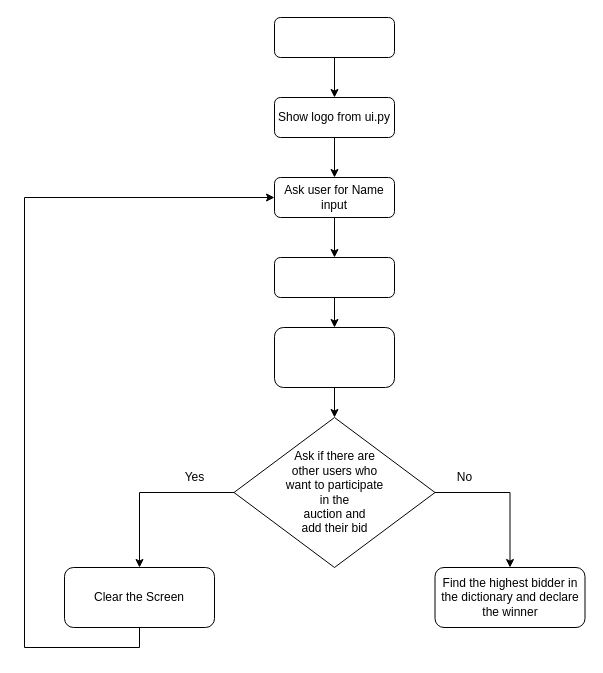
The diagram is 603 pixels wide and 673 high, and some of its shapes have lost their labels. The centre of each missing label's shape, as x and y in pixels:
"Add Name and Bid into a dictionary" belongs at (x=334, y=357).
"Ask for Bid Price" belongs at (x=334, y=277).
"Program Start" belongs at (x=334, y=37).
